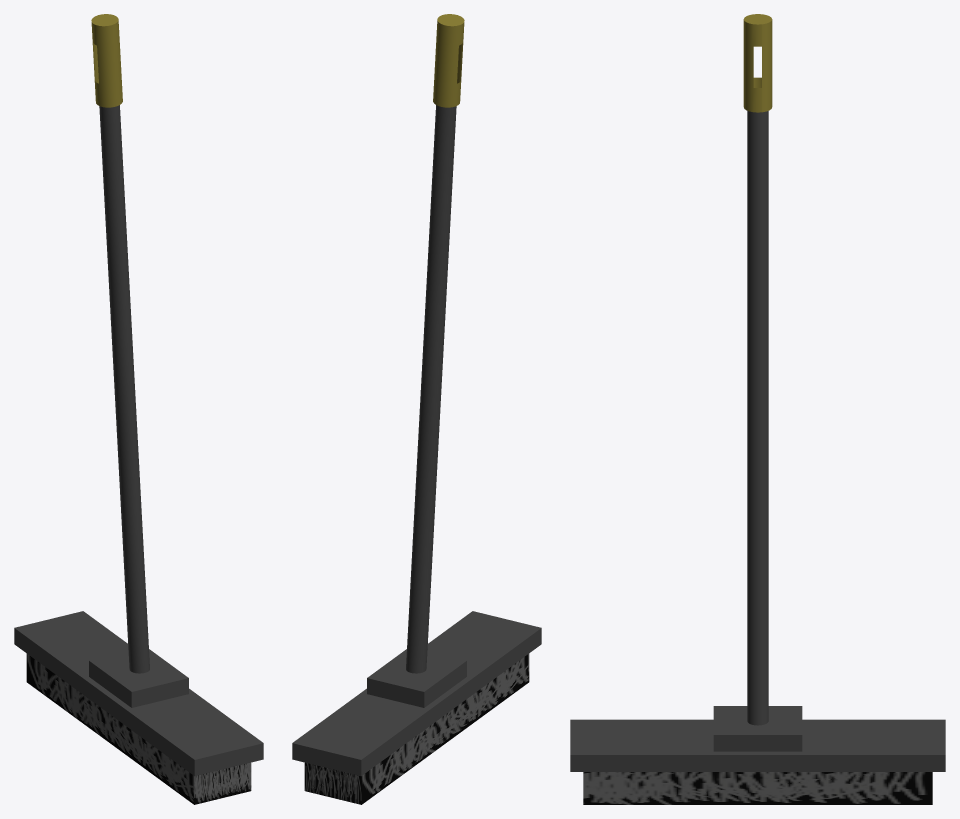
The model's file is Broom.fbx.
3 views of the same model, side by side, from view 1: azimuth 30°, elevation 25°; view 2: azimuth 150°, elevation 25°; view 3: azimuth 270°, elevation 25° (orthographic). The views are drawn at different scales.
Parts seen in each view (by area): view 1: pCube2, pCylinder1, pCube3, pCube1, pCylinder2; view 2: pCube2, pCylinder1, pCube3, pCube1, pCylinder2; view 3: pCube2, pCylinder1, pCube3, pCube1, pCylinder2.
Part boxes in pixels (<box>): pCube2: <box>14,611,263,776</box>; pCylinder1: <box>99,105,149,673</box>; pCube3: <box>26,653,251,804</box>; pCube1: <box>89,649,188,707</box>; pCylinder2: <box>91,14,122,107</box>; pCube2: <box>292,611,541,776</box>; pCylinder1: <box>406,105,456,673</box>; pCube3: <box>304,653,529,804</box>; pCube1: <box>367,649,466,707</box>; pCylinder2: <box>433,14,464,107</box>; pCube2: <box>570,719,945,771</box>; pCylinder1: <box>747,111,768,725</box>; pCube3: <box>583,772,932,804</box>; pCube1: <box>713,706,802,751</box>; pCylinder2: <box>743,14,772,112</box>.
Bounding box in the file's own units: 0.998 × 8.62 × 3.89.
